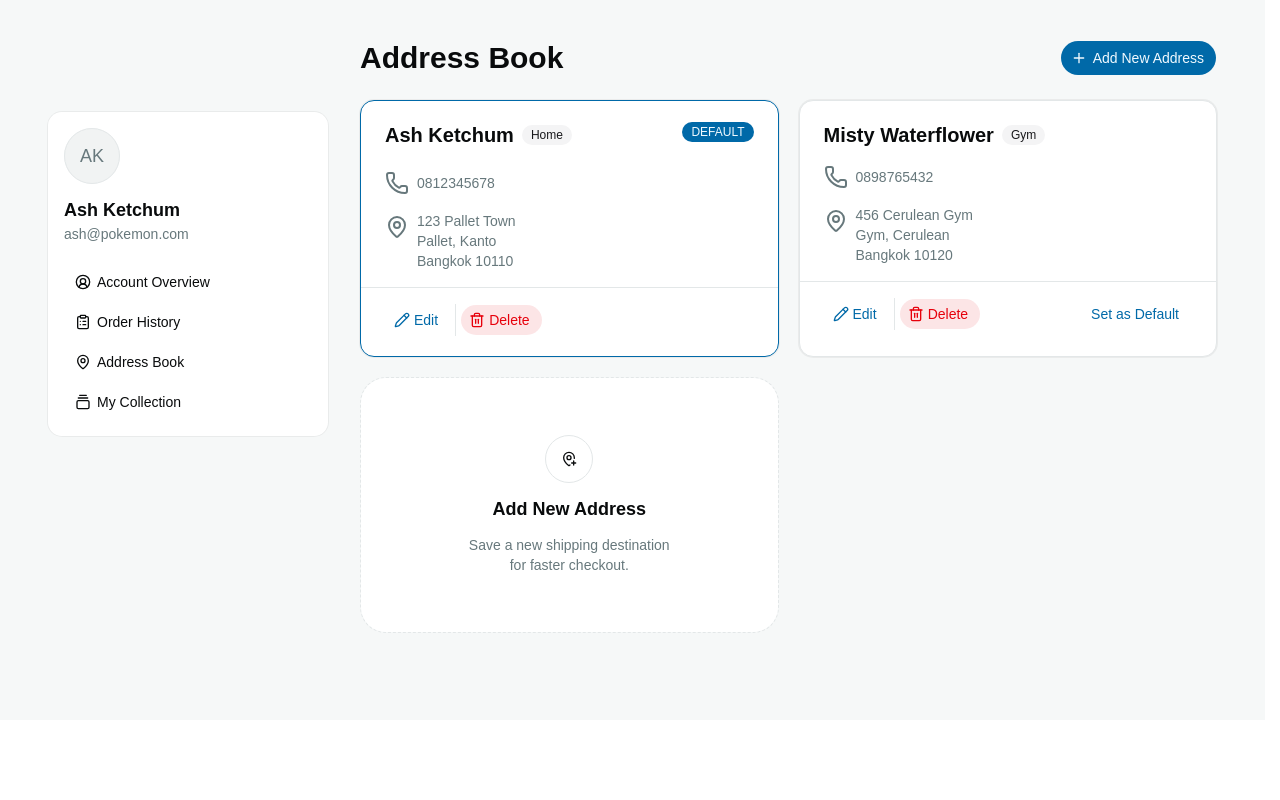
AddressBookPage › opens add new address dialog when Add New Address is clicked
The image size is (1280, 800).
Expected: the text "Misty Waterflower" is shown, x1=824 y1=124 x2=994 y2=146
Click the button "Add New Address". click: (1138, 58)
box: x1=1060 y1=40 x2=1217 y2=76
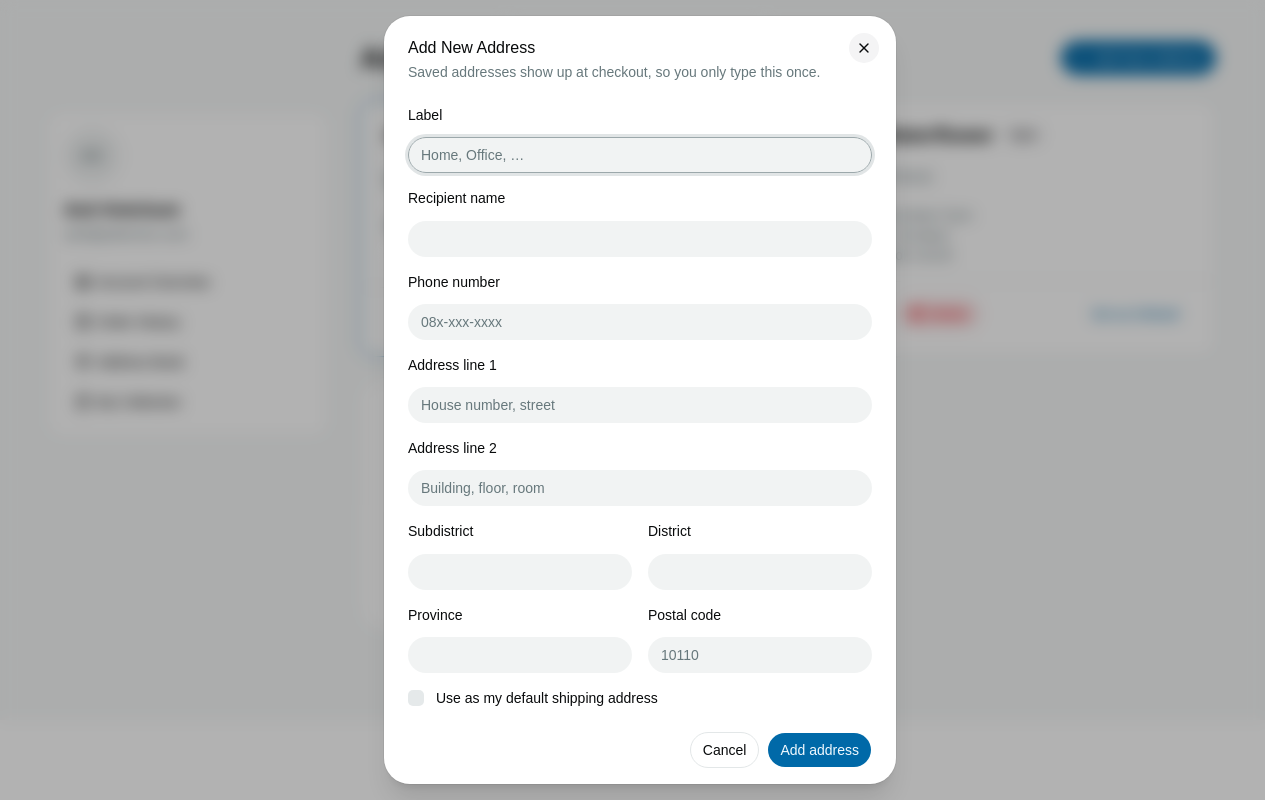
Expected: the dialog is shown, x1=384 y1=16 x2=896 y2=784
Expected: the heading "Add New Address" is shown, x1=408 y1=39 x2=535 y2=56
